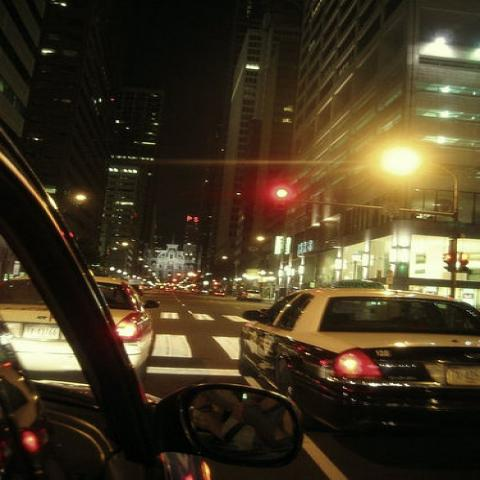car: (0, 124, 307, 479), (238, 284, 479, 439), (96, 276, 161, 382), (128, 278, 146, 298), (236, 290, 262, 302), (213, 291, 229, 296)
